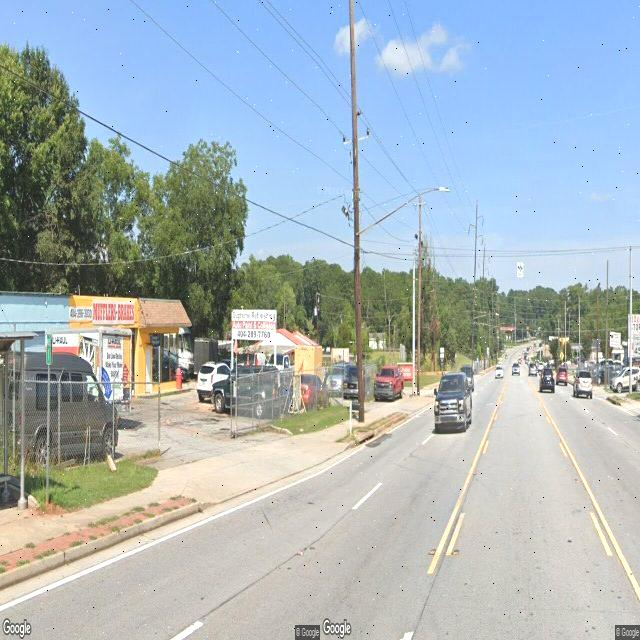seating: (0, 474, 16, 511)
shelter: (0, 329, 38, 518)
